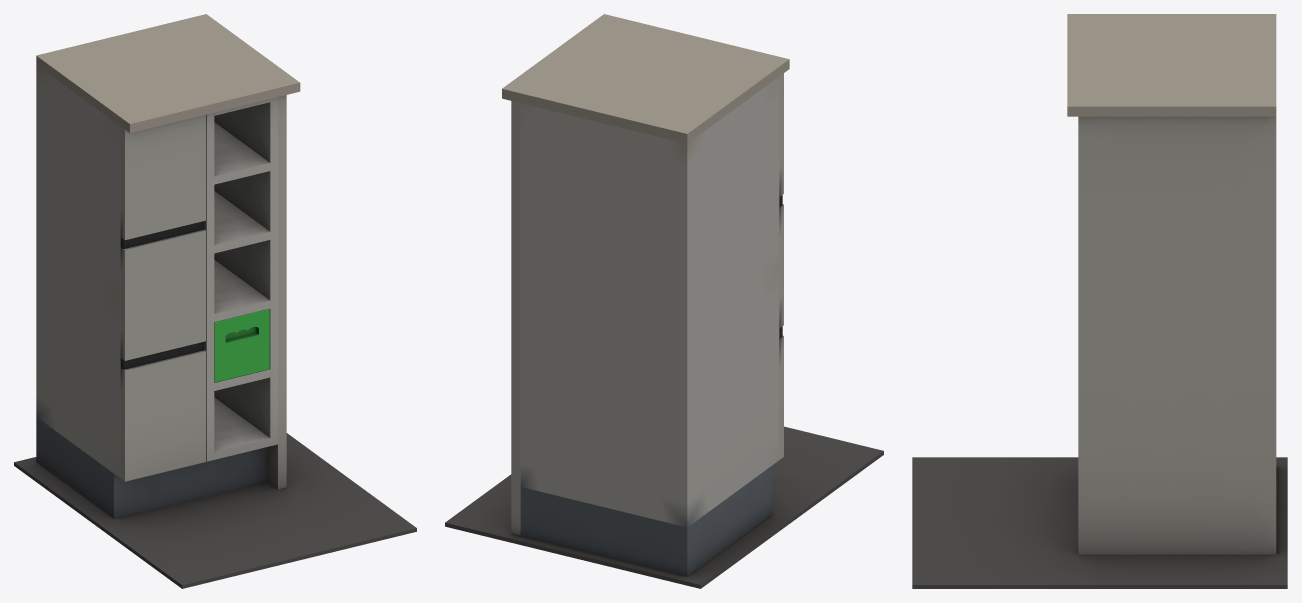
The model's file is cajones_tapa_costillas_bolsillo.glb.
3 views of the same model, side by side, from view 1: azimuth 30°, elevation 25°; view 2: azimuth 150°, elevation 25°; view 3: azimuth 270°, elevation 25° (orthographic). The views are drawn at different scales.
Parts seen in each view (by area): view 1: cajones_tapa_costillas_bolsillo; view 2: cajones_tapa_costillas_bolsillo; view 3: cajones_tapa_costillas_bolsillo.
Boxes of the visible parts, <box> form: cajones_tapa_costillas_bolsillo: <box>14,14,416,588</box>; cajones_tapa_costillas_bolsillo: <box>445,14,883,588</box>; cajones_tapa_costillas_bolsillo: <box>912,14,1287,588</box>.
Bounding box in the file's own units: 0.546 × 0.911 × 0.678.
